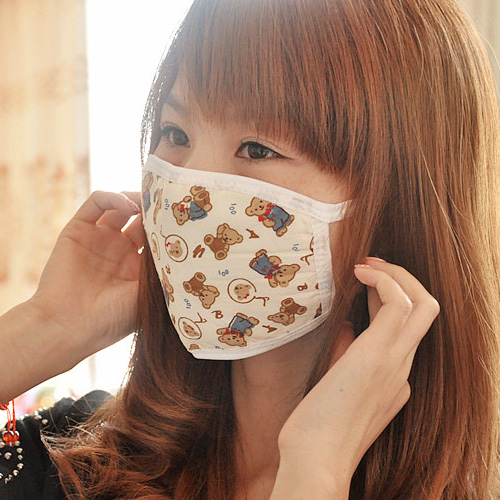face_mask: (142, 33, 348, 358)
